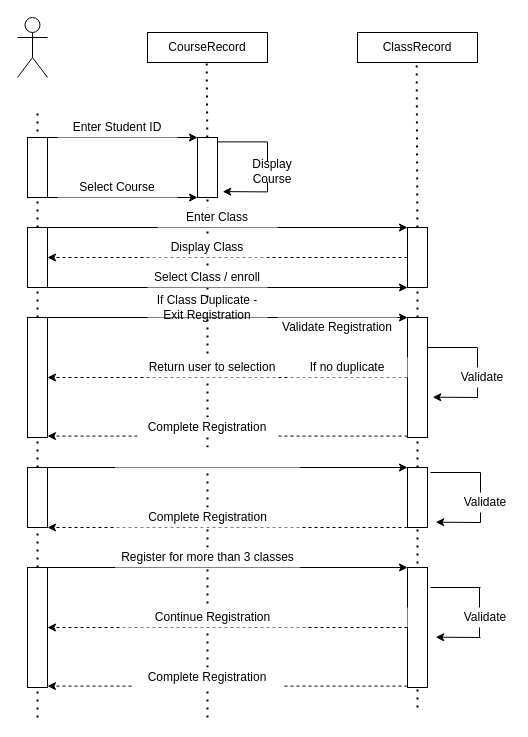
This 528x737 diagram has some shape labels left out. Each missing label, with the centre of its shape:
If GPA >= 3.5: point 363,617
If Online Class: requirements met: point 207,457
Staff: point 32,47
